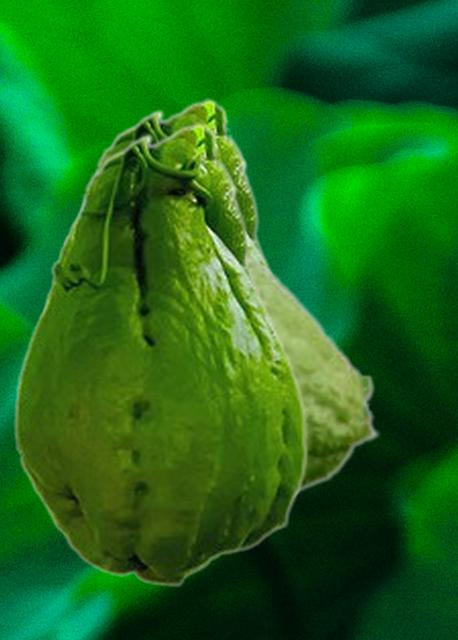sayote: (13, 122, 308, 587), (36, 98, 302, 497), (249, 250, 381, 499)
